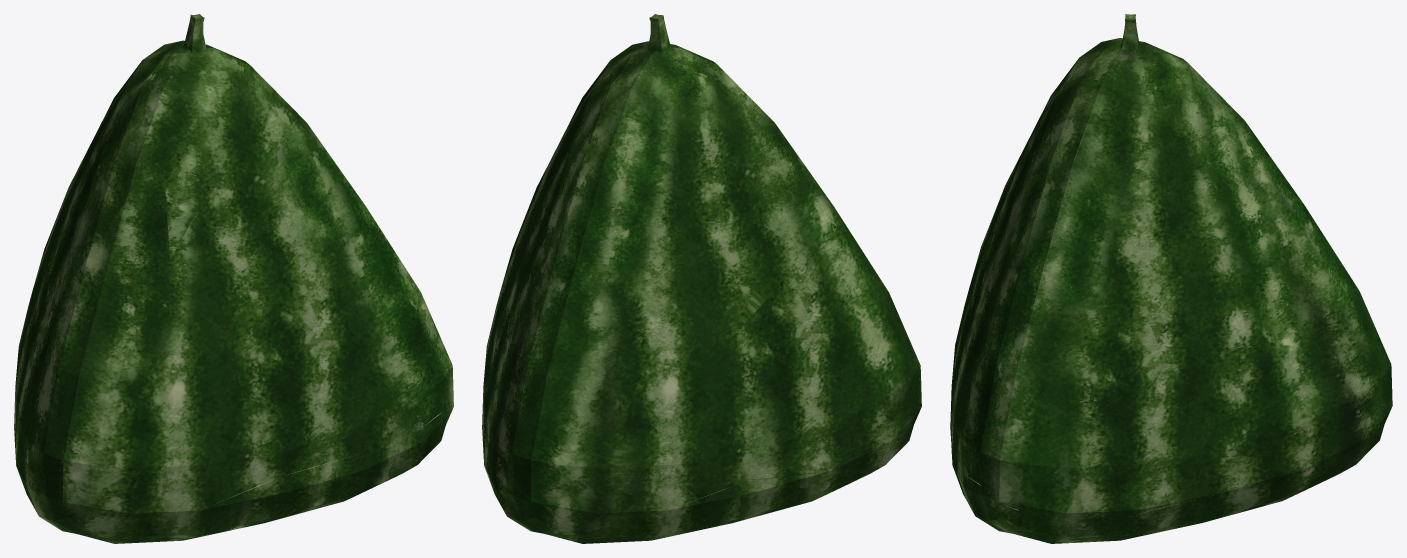
Rendered from TrWatermelon.fbx.
3 renders of one model, left to right at view 1: azimuth 30°, elevation 25°; view 2: azimuth 150°, elevation 25°; view 3: azimuth 270°, elevation 25°, orthographic.
Visible parts, largest first — view 1: TrWatermelon, TrWatermelon_cell.003, TrWatermelon_cell, TrWatermelon_cell.004, TrWatermelon_cell.002, TrWatermelon_cell.001, TrWatermelon_tail; view 2: TrWatermelon, TrWatermelon_cell.002, TrWatermelon_cell.004, TrWatermelon_cell.001, TrWatermelon_tail; view 3: TrWatermelon, TrWatermelon_cell, TrWatermelon_cell.001, TrWatermelon_cell.003, TrWatermelon_cell.004, TrWatermelon_tail.
Boxes of the visible parts, bbox=[...] form: TrWatermelon: bbox=[14, 40, 453, 543]; TrWatermelon_cell.003: bbox=[62, 250, 443, 505]; TrWatermelon_cell: bbox=[164, 66, 450, 395]; TrWatermelon_cell.004: bbox=[38, 55, 169, 275]; TrWatermelon_cell.002: bbox=[14, 248, 105, 476]; TrWatermelon_cell.001: bbox=[14, 411, 443, 543]; TrWatermelon_tail: bbox=[182, 14, 206, 53]; TrWatermelon: bbox=[482, 41, 921, 542]; TrWatermelon_cell.002: bbox=[534, 207, 910, 517]; TrWatermelon_cell.004: bbox=[484, 66, 821, 489]; TrWatermelon_cell.001: bbox=[495, 412, 919, 543]; TrWatermelon_tail: bbox=[647, 14, 670, 54]; TrWatermelon: bbox=[951, 38, 1392, 542]; TrWatermelon_cell: bbox=[971, 84, 1273, 512]; TrWatermelon_cell.001: bbox=[950, 412, 1376, 543]; TrWatermelon_cell.003: bbox=[951, 189, 1003, 473]; TrWatermelon_cell.004: bbox=[1211, 112, 1378, 477]; TrWatermelon_tail: bbox=[1120, 14, 1139, 53].
Size of the model in its own units: 13.37 by 14.99 by 12.75.
